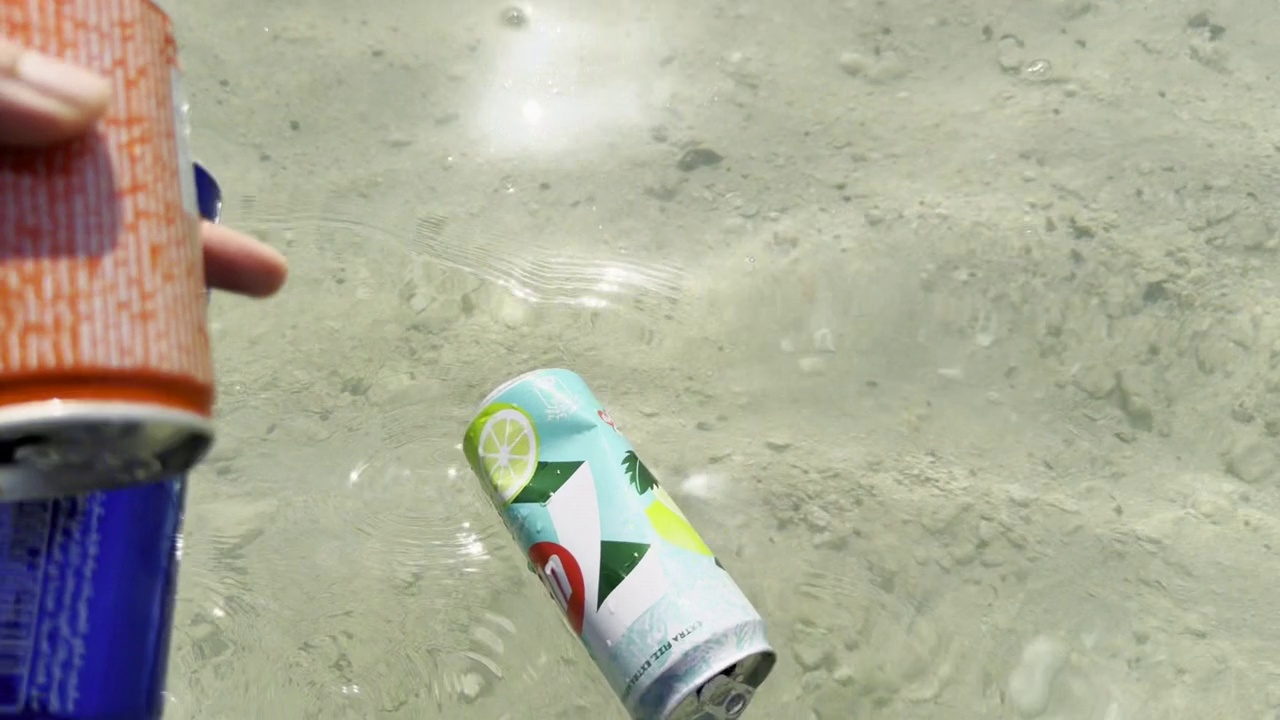debris: (460, 360, 782, 720)
